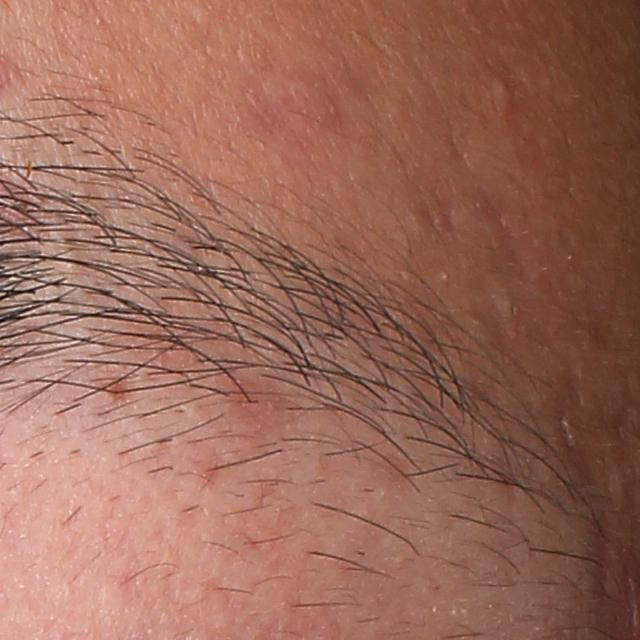comedo: (488, 71, 516, 114)
